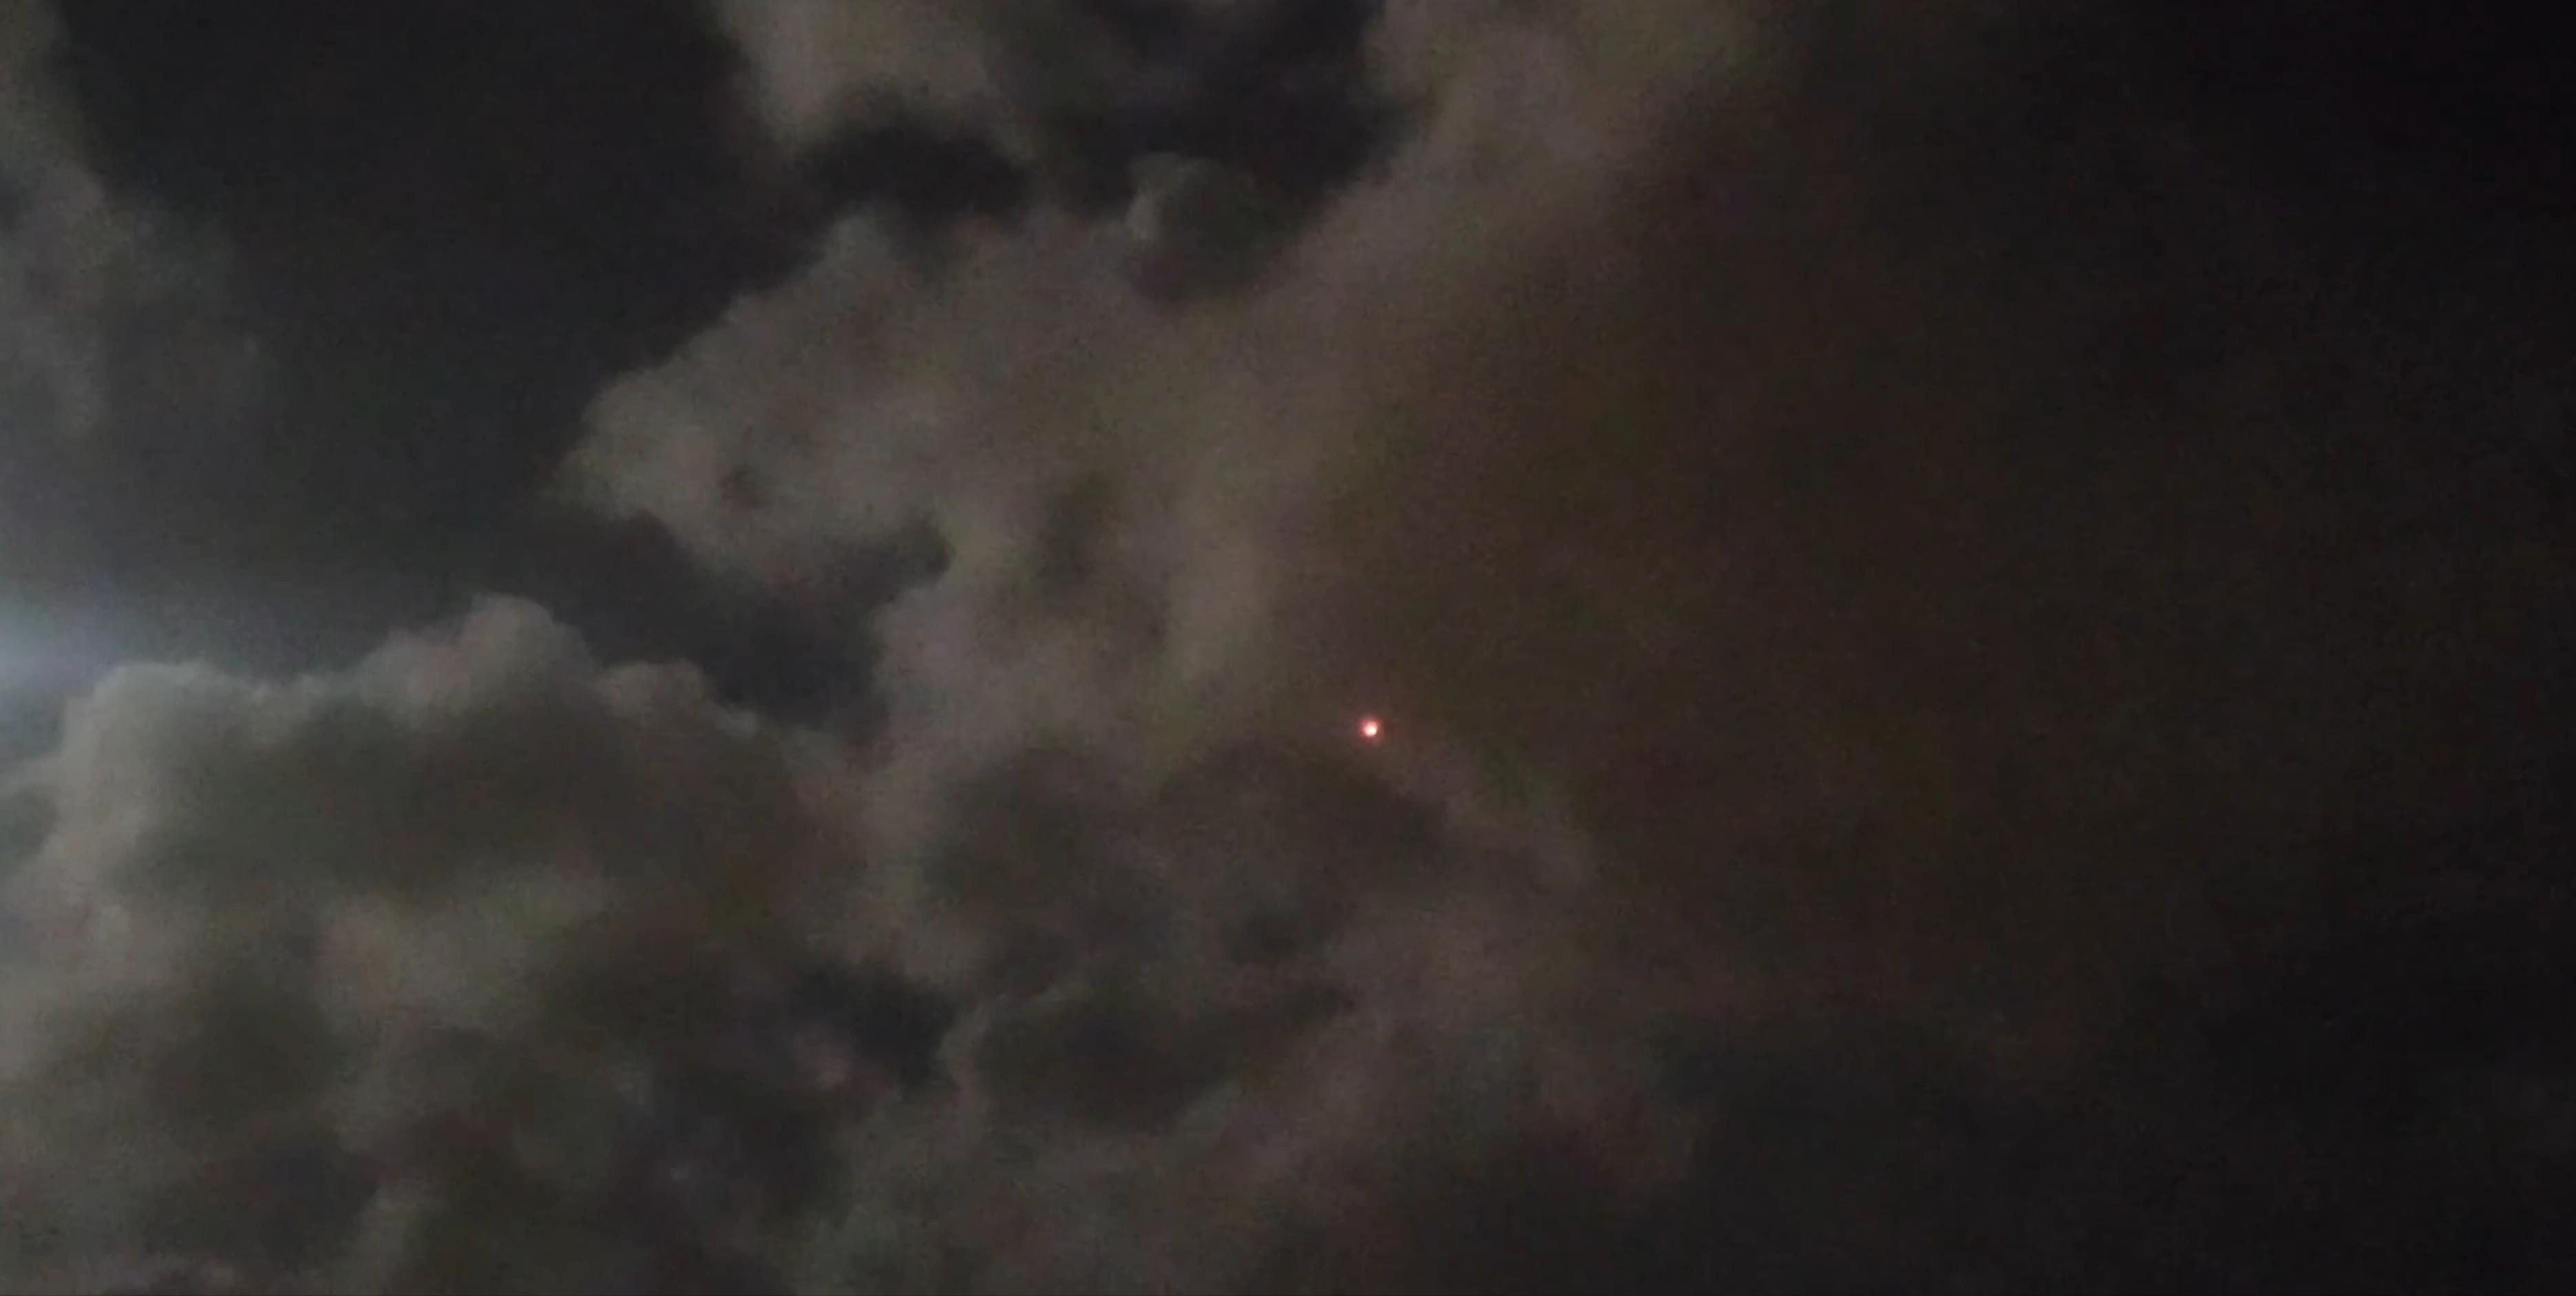Plane: (1340, 698, 1408, 767)
